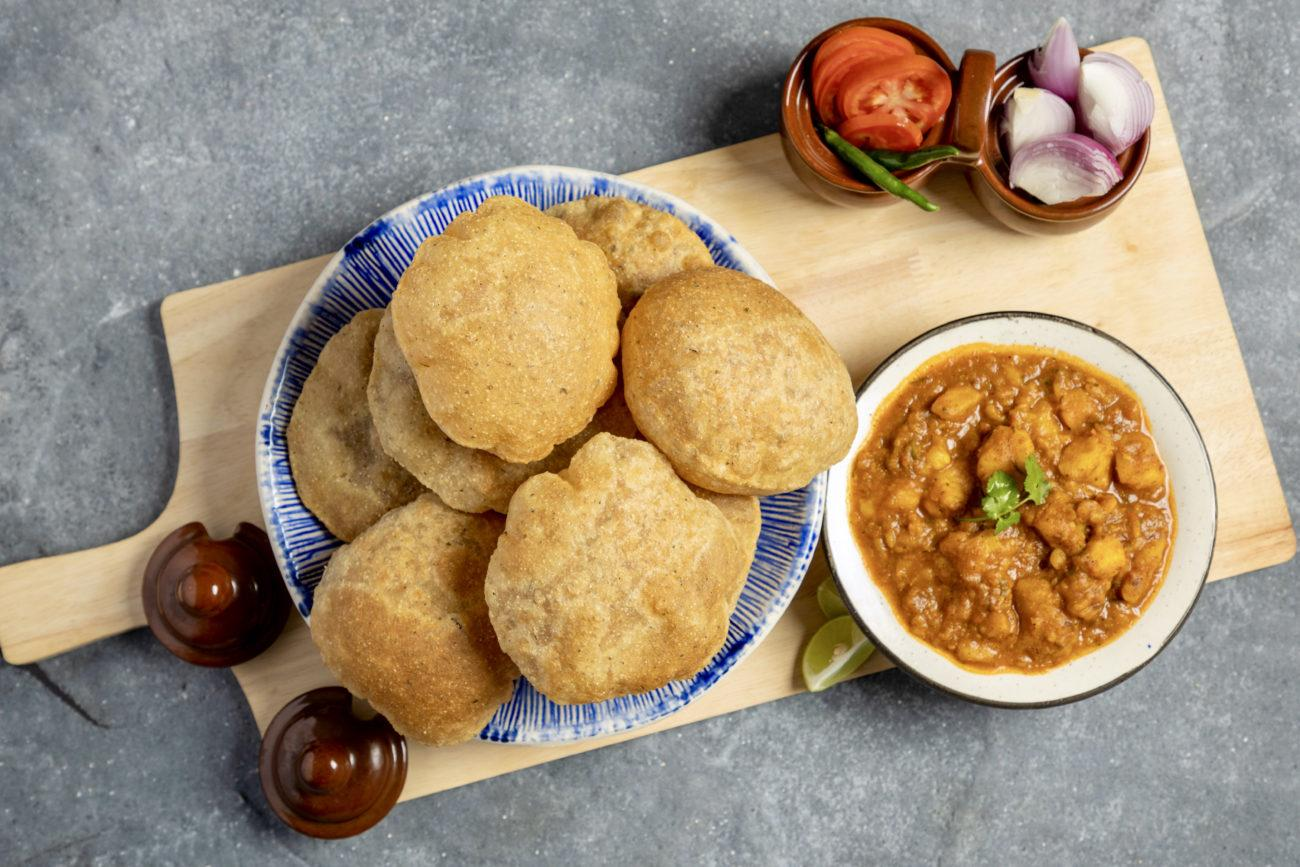puri: (342, 245, 828, 738)
